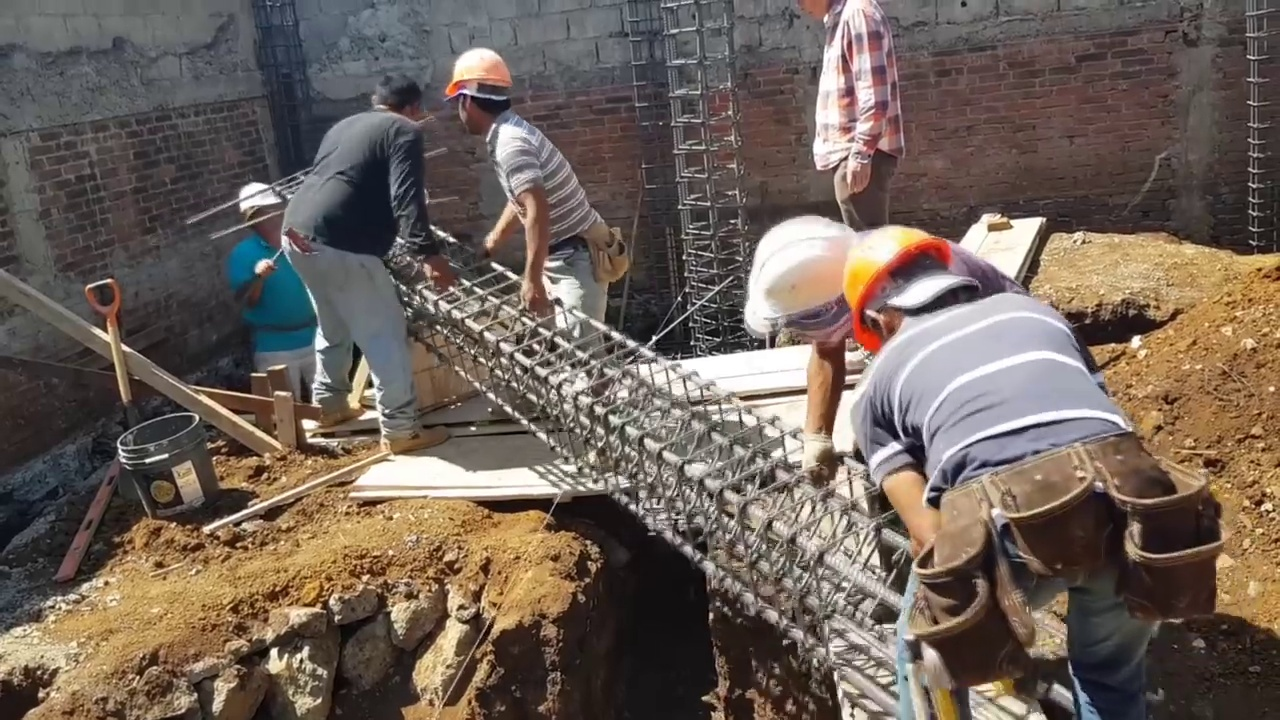helmet: (842, 223, 950, 352), (750, 212, 858, 330), (443, 46, 513, 103), (235, 183, 281, 220)
helmet-off: (370, 72, 422, 116), (792, 0, 841, 27)
helmet-on: (747, 207, 881, 350), (845, 223, 982, 354), (438, 50, 515, 134), (236, 182, 284, 249)
person: (840, 221, 1176, 720), (282, 78, 438, 456), (443, 58, 619, 380), (751, 230, 899, 498), (791, 0, 906, 229), (219, 184, 320, 392)
